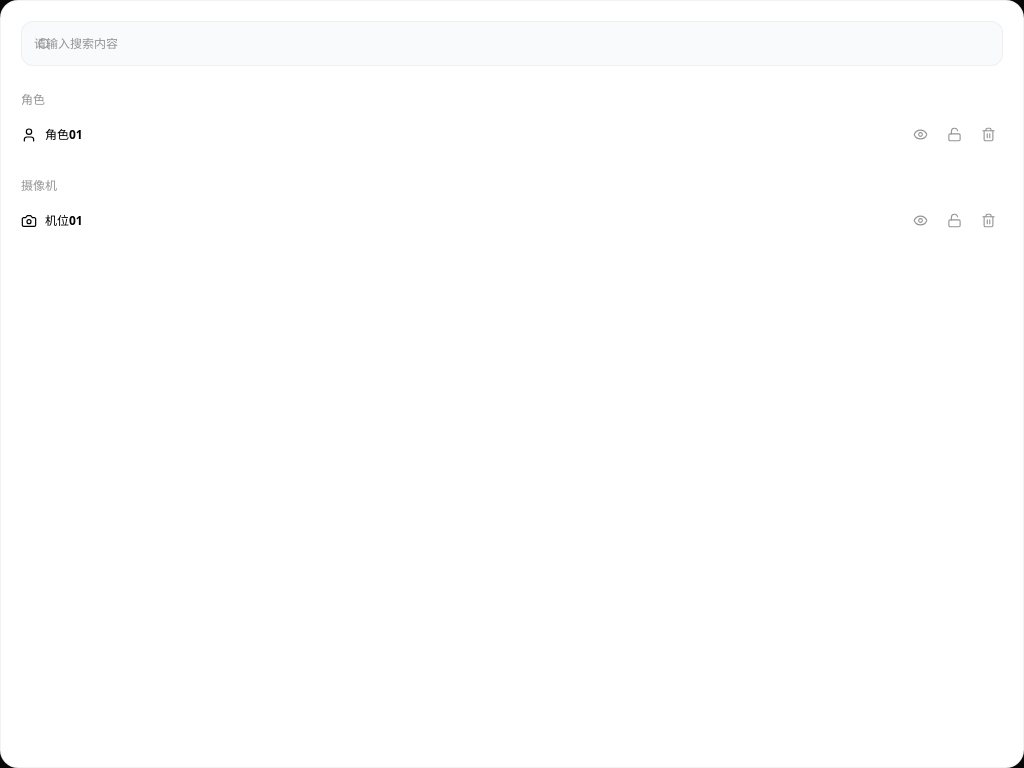
Test case: ObjectTreePanel › shows a delete action for scene objects and removes that object
Check: the list item "角色01" is shown, box [5,112,1019,157]
Click the button named "删除 角色01".
click(988, 134)  # box [975,116,1001,152]
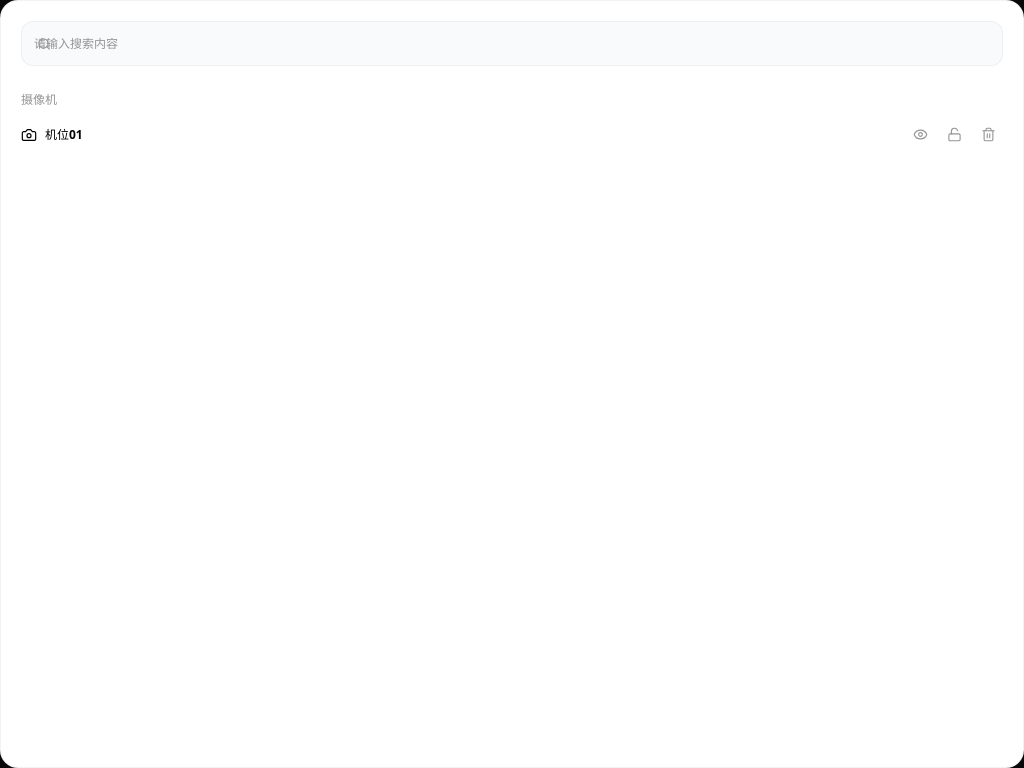
Check: the button "角色01" is gone
